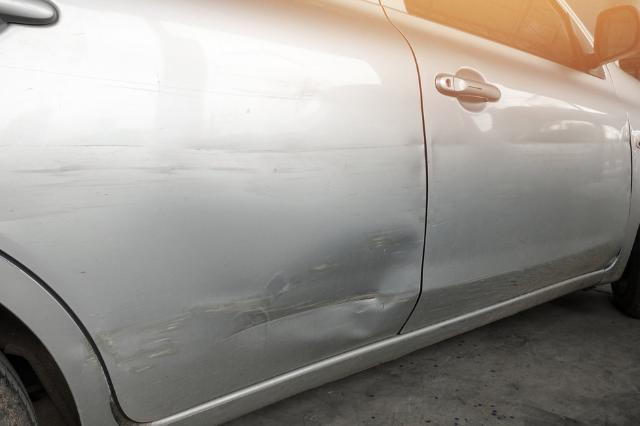Door: (297, 215, 427, 366)
